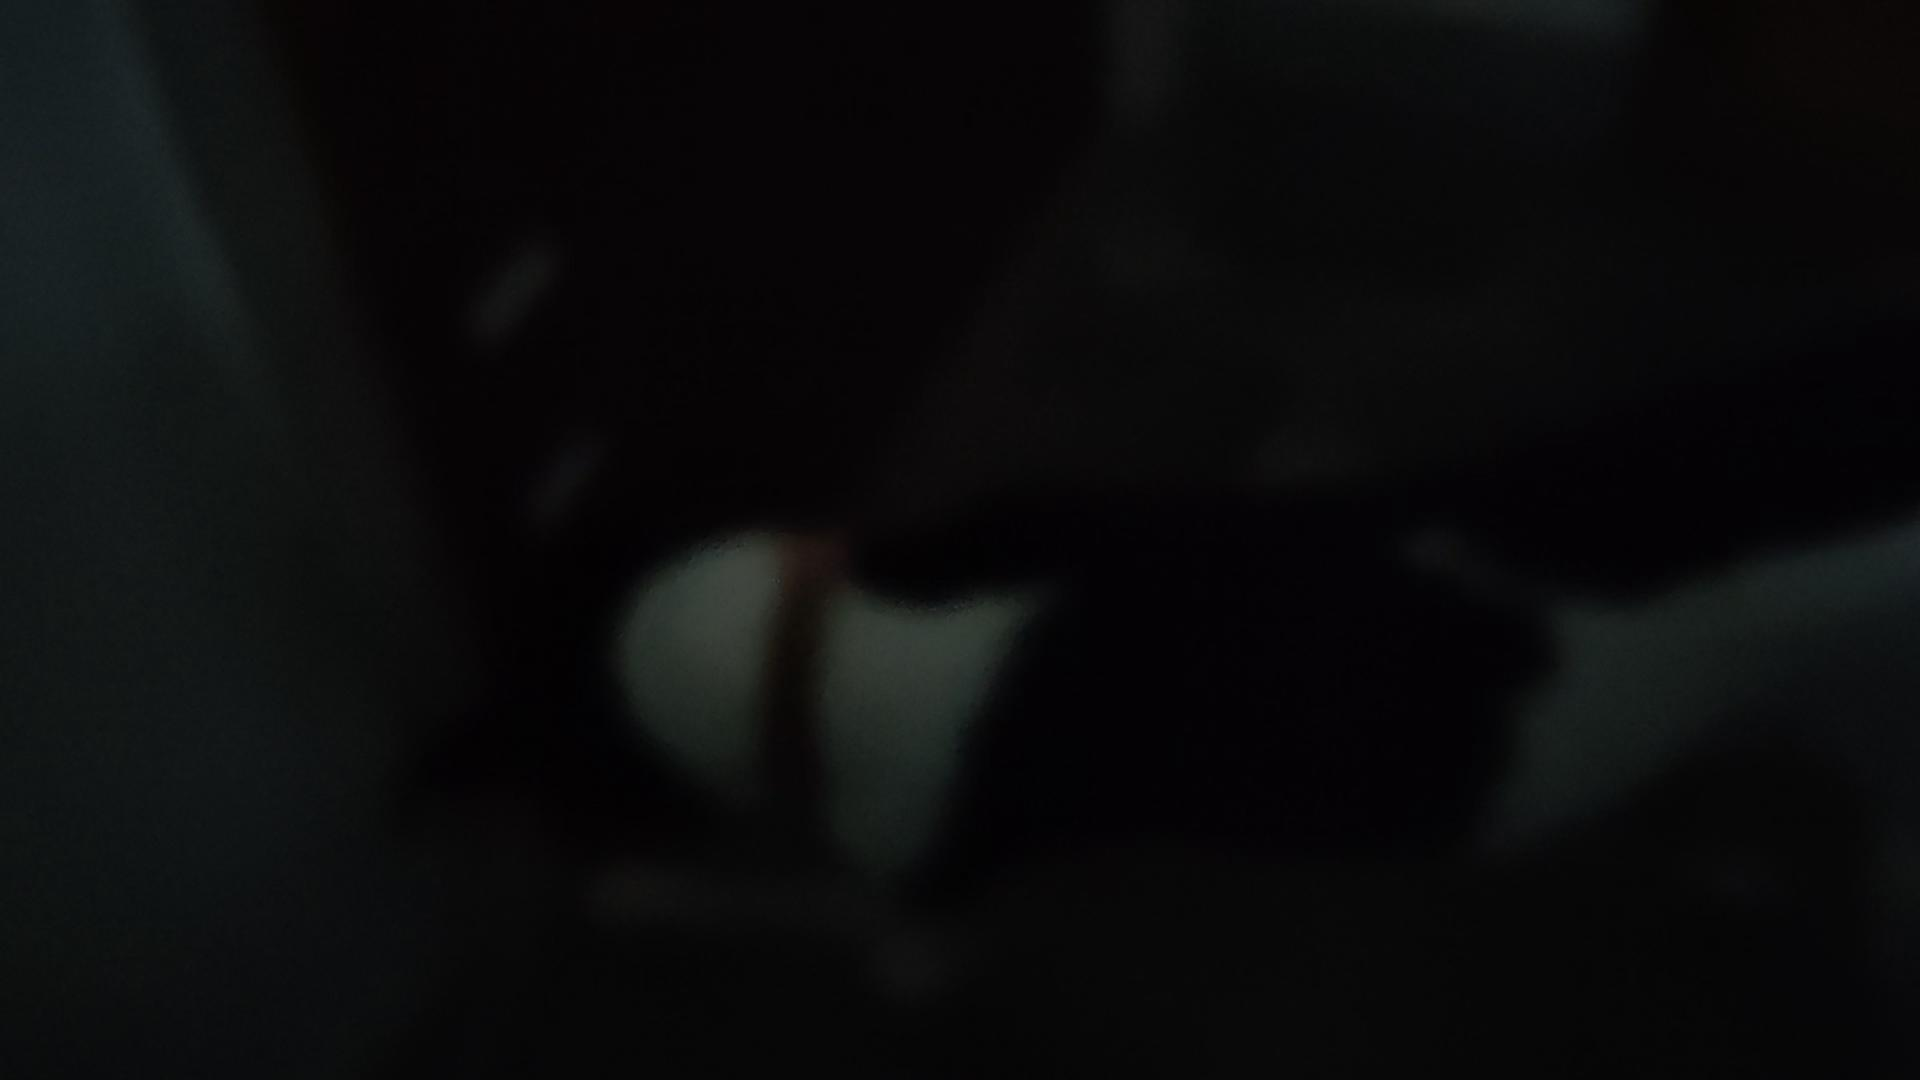Dog: (375, 287, 1919, 1079)
